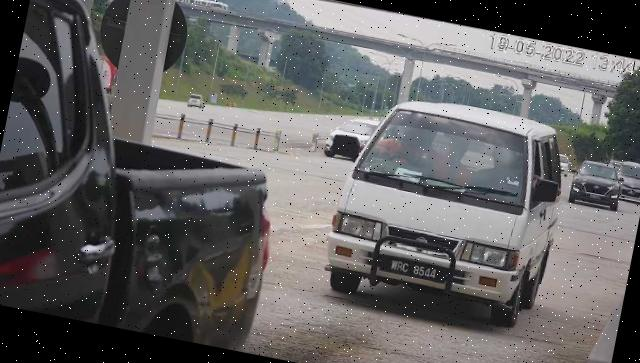License_Plate: (377, 253, 451, 288)
van: (318, 85, 576, 334)
